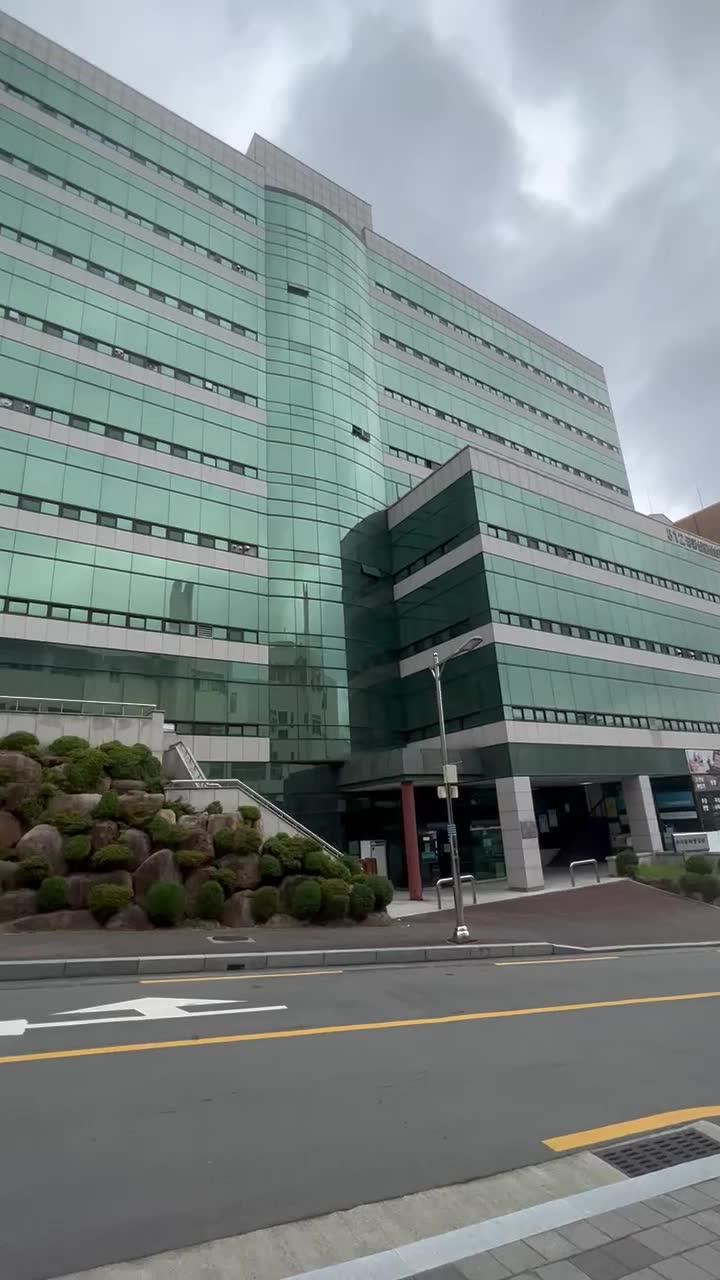building: (12, 94, 680, 752)
